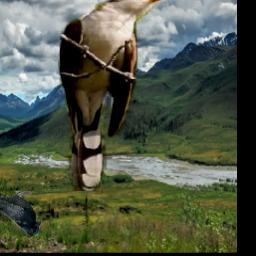Crow: (0, 191, 42, 236)
Cuckoo: (57, 0, 171, 192)
